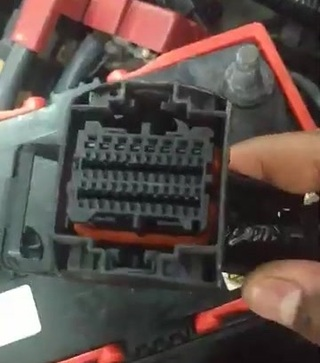connector: (49, 80, 231, 292)
